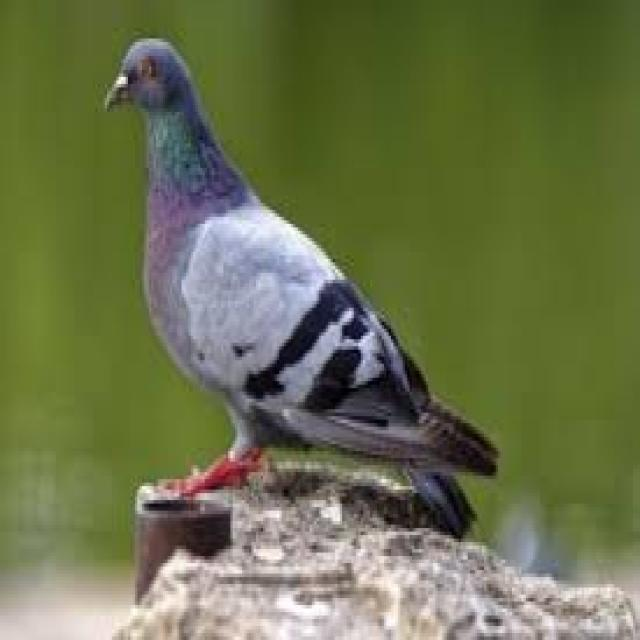pigeon: (90, 26, 532, 523)
